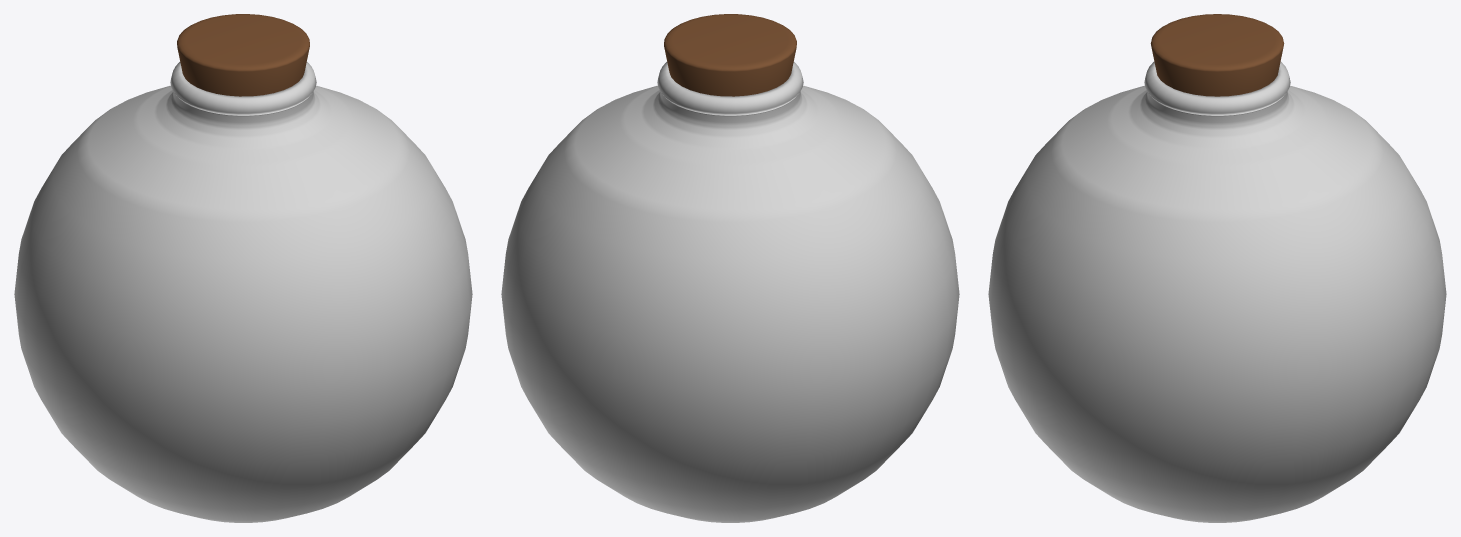
File: Potion_5.fbx
3 renders of one model, left to right at view 1: azimuth 30°, elevation 25°; view 2: azimuth 150°, elevation 25°; view 3: azimuth 270°, elevation 25°, orthographic.
Parts seen in each view (by area): view 1: Potion_5; view 2: Potion_5; view 3: Potion_5.
Part boxes in pixels (x1,y1,x2,y2): Potion_5: (14,14,472,522); Potion_5: (501,14,959,522); Potion_5: (988,14,1446,522).
Bounding box in the file's own units: 45.75 × 51.02 × 45.88.
